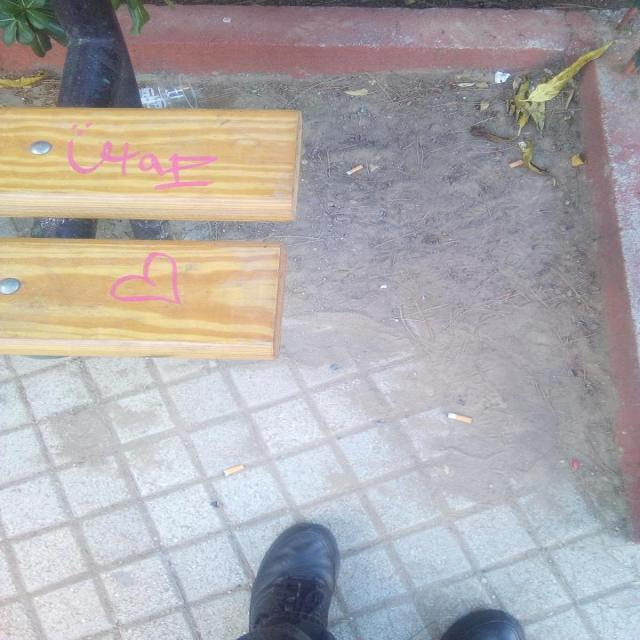nonspitting: (66, 122, 222, 190), (110, 249, 184, 309)
